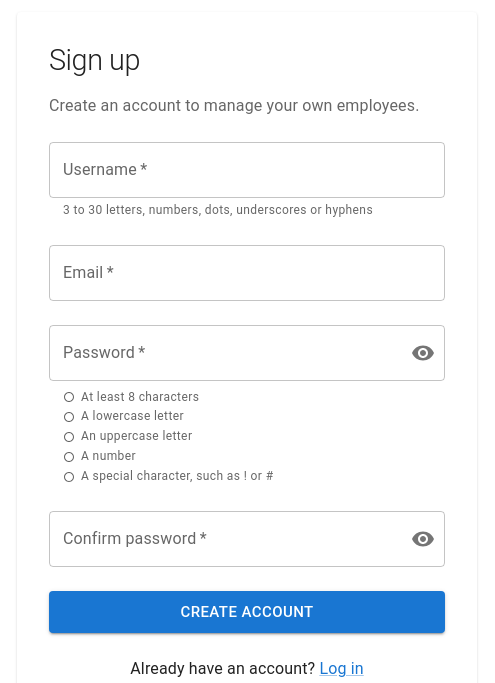
Test: SignupPage: client-side validation › flags a bad email when the user leaves the field
In the field labelled "Email *": (247, 272) [49, 244, 445, 300], type "not-an-email"
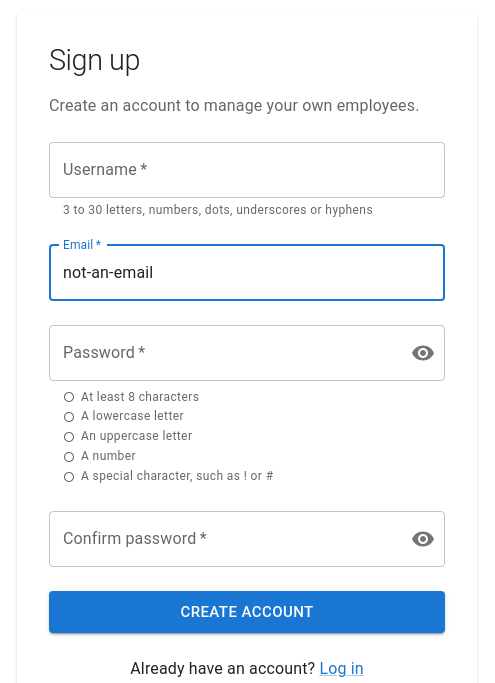
Press Tab
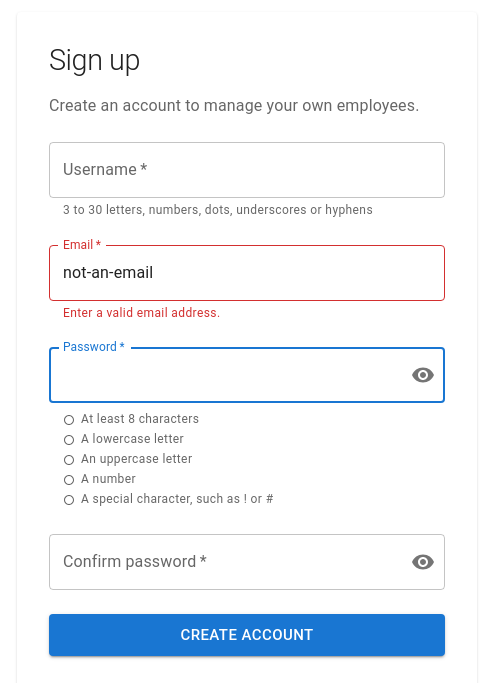
Now the text "Enter a valid email address." is shown, box [63, 306, 220, 320]
